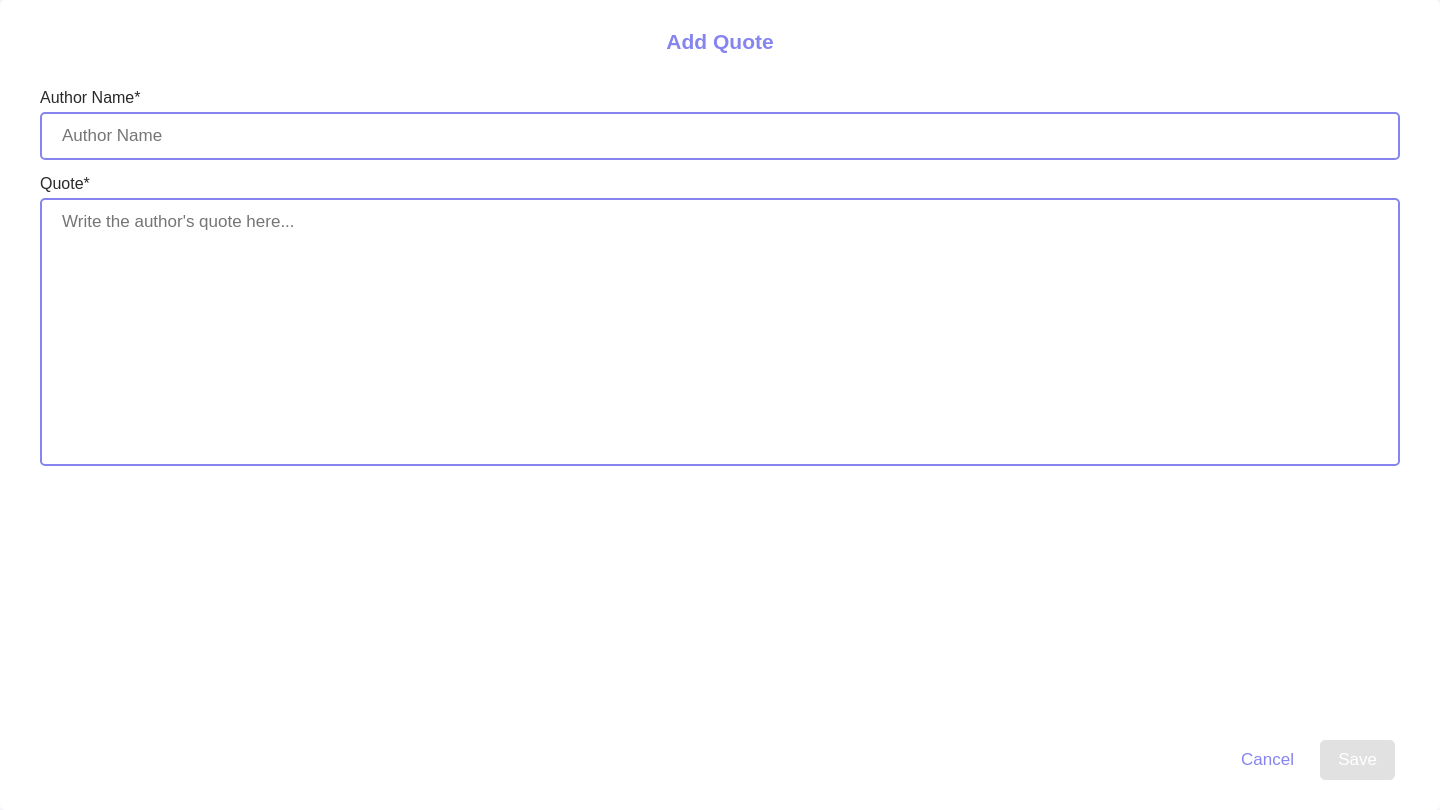
it: Form Component › Button should be enabled if all inputs are filled
The image size is (1440, 810).
Type on input
Type "Deejay Geroso" into the field labelled "Author Name*". click: (720, 136)
box: [40,112,1400,160]
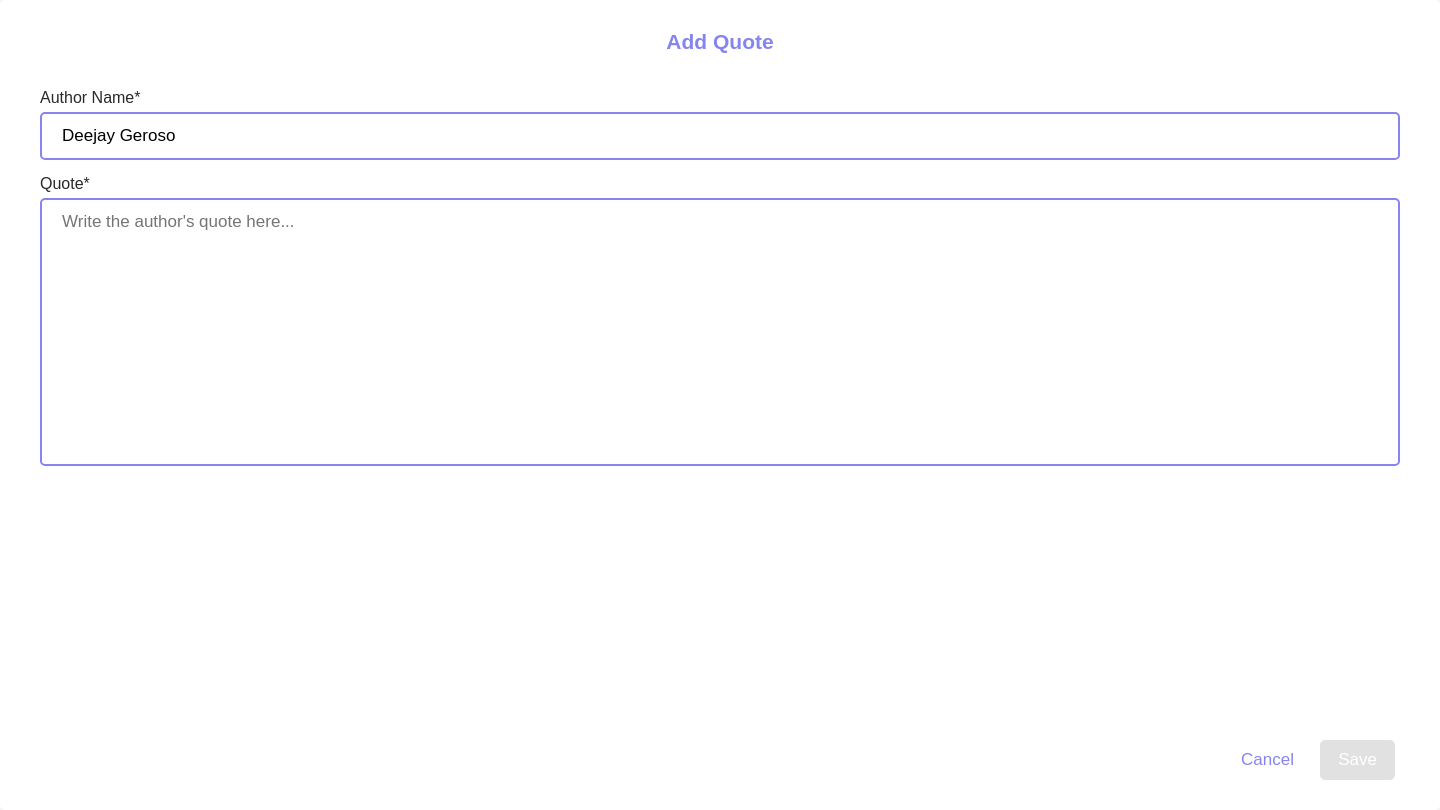
Type "Deejay is the way" into the text box labelled "Quote*". click: (720, 332)
box: [40,198,1400,466]
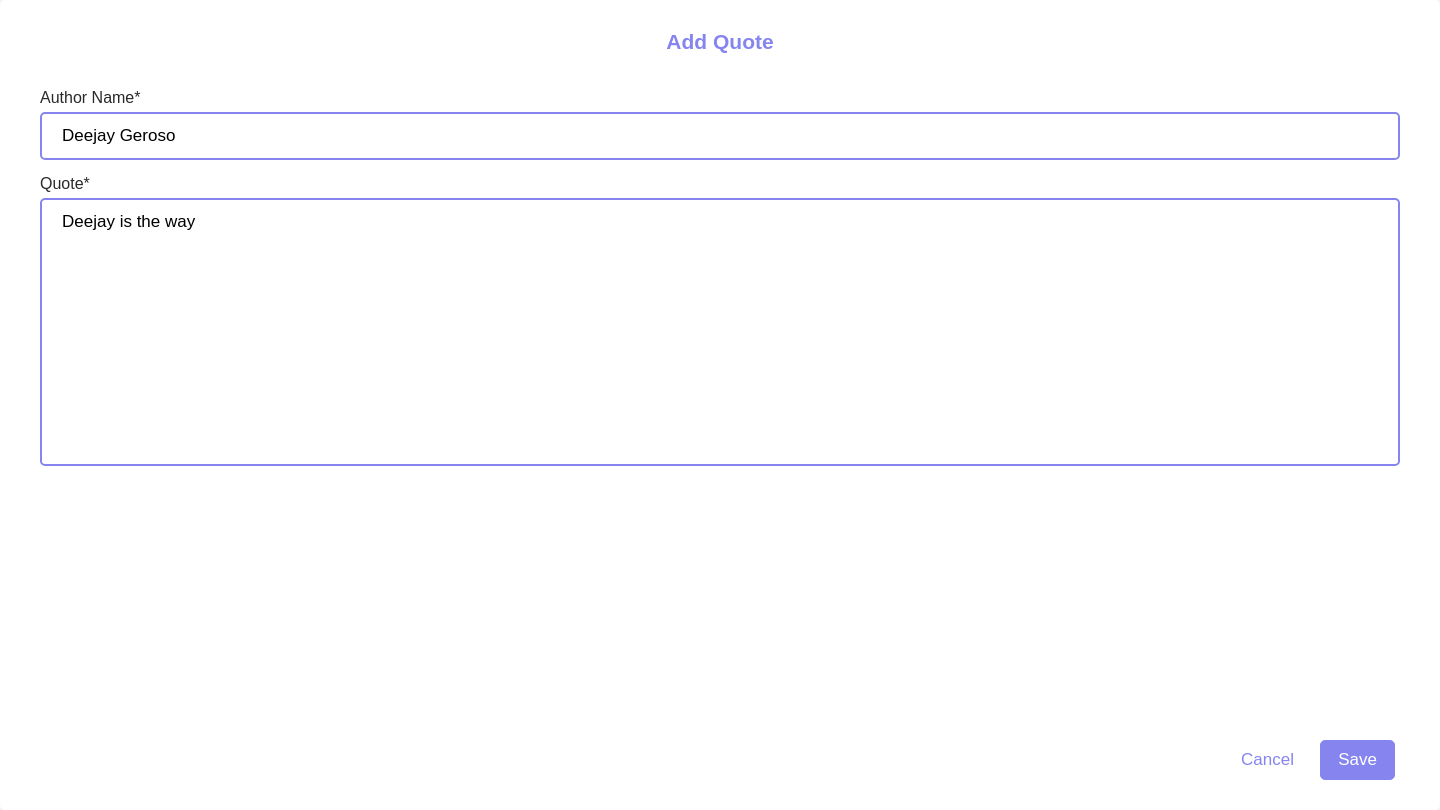
expect the button "Save" is enabled: met, box [1320,740,1395,780]
